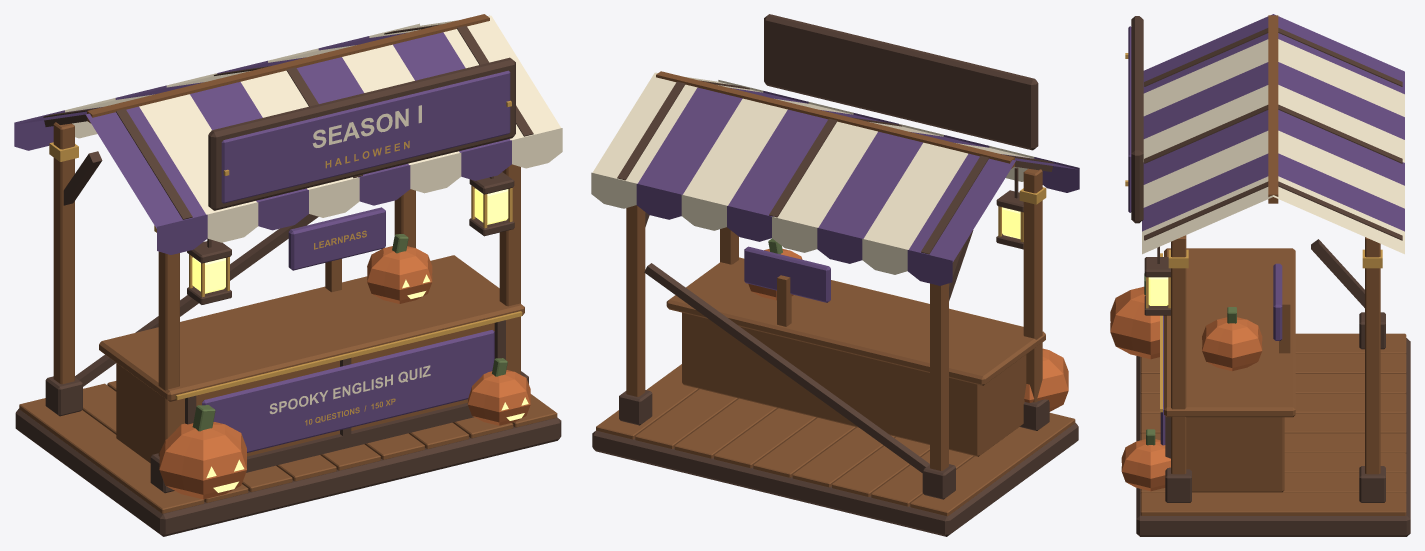
The model's file is spooky-stand-shell.glb.
3 renders of one model, left to right at view 1: azimuth 30°, elevation 25°; view 2: azimuth 150°, elevation 25°; view 3: azimuth 270°, elevation 25°, orthographic. The views are drawn at different scales.
Parts seen in each view (by area): view 1: Stand_Warm_chestnut_timber, Stand_Plum_canvas, Stand_Darker_timber_and_iron, Stand_Ivory_canvas_and_lettering, Stand_Pumpkin_orange, Stand_Fairground_ochre_trim, Stand_Warm_lantern_glow, Stand_Pumpkin_stems; view 2: Stand_Warm_chestnut_timber, Stand_Darker_timber_and_iron, Stand_Plum_canvas, Stand_Ivory_canvas_and_lettering, Stand_Pumpkin_orange, Stand_Fairground_ochre_trim; view 3: Stand_Warm_chestnut_timber, Stand_Plum_canvas, Stand_Ivory_canvas_and_lettering, Stand_Darker_timber_and_iron, Stand_Pumpkin_orange, Stand_Fairground_ochre_trim, Stand_Warm_lantern_glow, Stand_Pumpkin_stems.
Part boxes in pixels (box(x1,y1,x2,y2)): Stand_Warm_chestnut_timber: box(19, 14, 557, 513); Stand_Plum_canvas: box(14, 32, 511, 452); Stand_Darker_timber_and_iron: box(15, 24, 561, 536); Stand_Ivory_canvas_and_lettering: box(65, 15, 562, 414); Stand_Pumpkin_orange: box(159, 246, 530, 499); Stand_Fairground_ochre_trim: box(49, 100, 522, 425); Stand_Warm_lantern_glow: box(192, 188, 528, 492); Stand_Pumpkin_stems: box(192, 234, 507, 431); Stand_Warm_chestnut_timber: box(596, 71, 1075, 516); Stand_Darker_timber_and_iron: box(592, 14, 1078, 536); Stand_Plum_canvas: box(636, 87, 1079, 302); Stand_Ivory_canvas_and_lettering: box(591, 72, 1034, 274); Stand_Pumpkin_orange: box(748, 248, 1068, 411); Stand_Fairground_ochre_trim: box(998, 187, 1046, 242); Stand_Warm_chestnut_timber: box(1140, 15, 1406, 515); Stand_Plum_canvas: box(1128, 14, 1404, 445); Stand_Ivory_canvas_and_lettering: box(1142, 39, 1404, 254); Stand_Darker_timber_and_iron: box(1131, 16, 1410, 536); Stand_Pumpkin_orange: box(1110, 286, 1262, 491); Stand_Fairground_ochre_trim: box(1125, 53, 1382, 412); Stand_Warm_lantern_glow: box(1148, 277, 1168, 305); Stand_Pumpkin_stems: box(1144, 273, 1236, 445).
Bounding box in the file's own units: 3.88 × 3.61 × 2.71.
